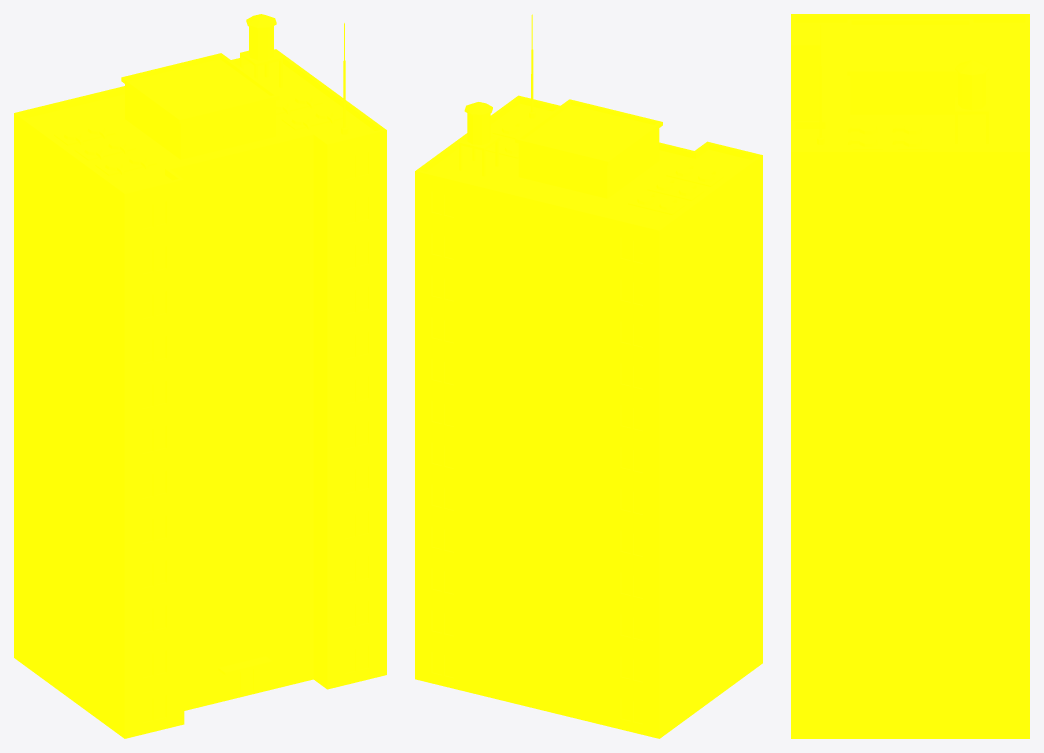
File: building-office-big.glb
3 views of the same model, side by side, from view 1: azimuth 30°, elevation 25°; view 2: azimuth 150°, elevation 25°; view 3: azimuth 270°, elevation 25° (orthographic). The views are drawn at different scales.
Visible parts, largest first — view 1: building-office-big; view 2: building-office-big; view 3: building-office-big.
Boxes of the visible parts, <box> form: building-office-big: <box>14,14,386,738</box>; building-office-big: <box>415,14,762,738</box>; building-office-big: <box>791,14,1029,738</box>.
Bounding box in the file's own units: 22 × 52.08 × 16.1.
1 material, 1 textured.
